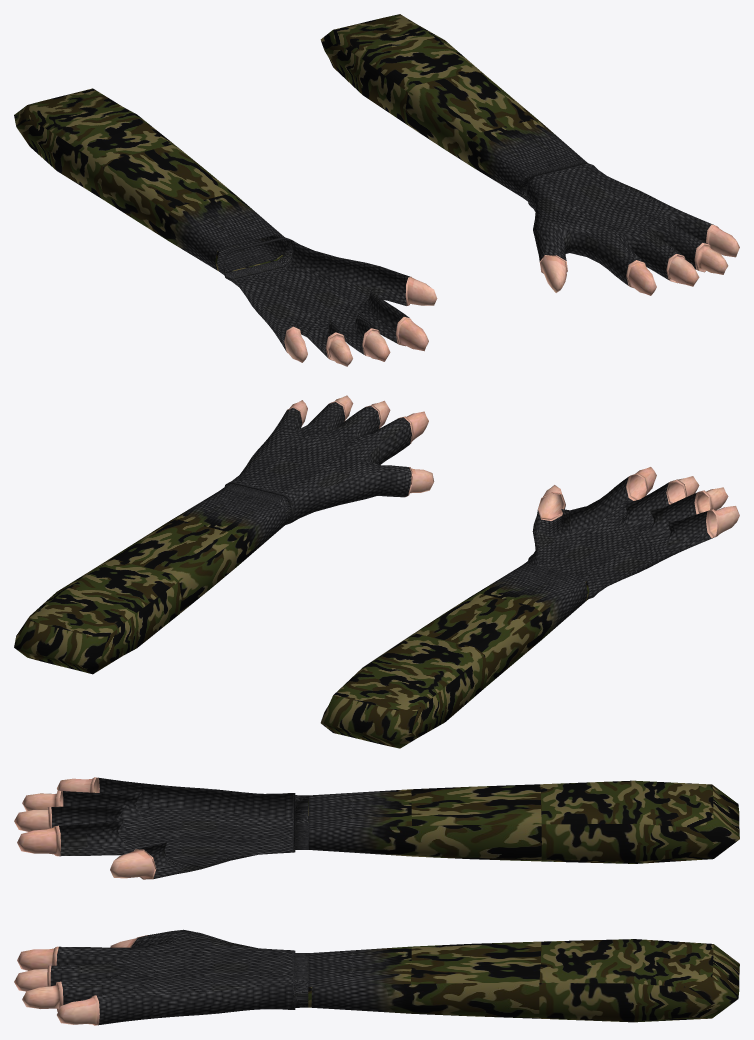
Rendered from Hand.obj.
3 renders of one model, top to bottom at view 1: azimuth 30°, elevation 25°; view 2: azimuth 150°, elevation 25°; view 3: azimuth 270°, elevation 25°, orthographic. The views are drawn at different scales.
Parts seen in each view (by area): view 1: Hand_Right_Cube.003, Hand_Left_Cube.001; view 2: Hand_Left_Cube.001, Hand_Right_Cube.003; view 3: Hand_Right_Cube.003, Hand_Left_Cube.001.
Part boxes in pixels (<box>): Hand_Right_Cube.003: <box>14,88,437,366</box>; Hand_Left_Cube.001: <box>320,14,739,295</box>; Hand_Left_Cube.001: <box>14,395,434,674</box>; Hand_Right_Cube.003: <box>320,467,739,748</box>; Hand_Right_Cube.003: <box>14,777,739,879</box>; Hand_Left_Cube.001: <box>14,929,739,1025</box>.
Size of the model in its own units: 24.57 by 2.64 by 32.69.
3 materials, 3 textured.
